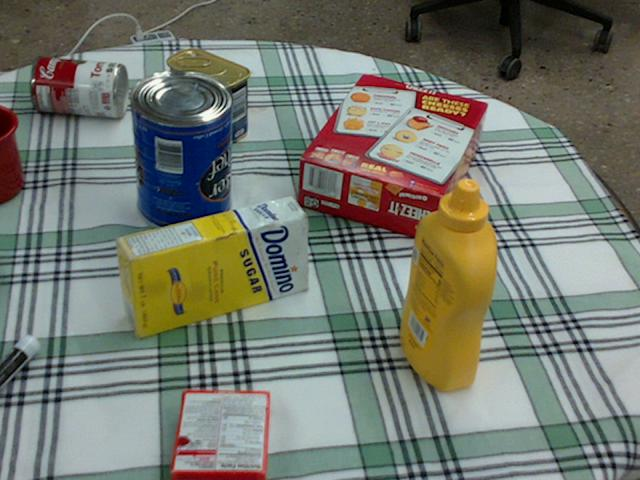cracker_box: (298, 74, 487, 241)
gelatin_box: (169, 390, 268, 479)
large_marker: (0, 334, 39, 388)
master_chef_can: (126, 70, 230, 234)
mug: (0, 103, 23, 200)
mustard_bottle: (400, 178, 496, 389)
potted_meat_can: (166, 49, 249, 142)
sugar_box: (114, 196, 308, 337)
tomato_soup_can: (30, 56, 127, 116)
